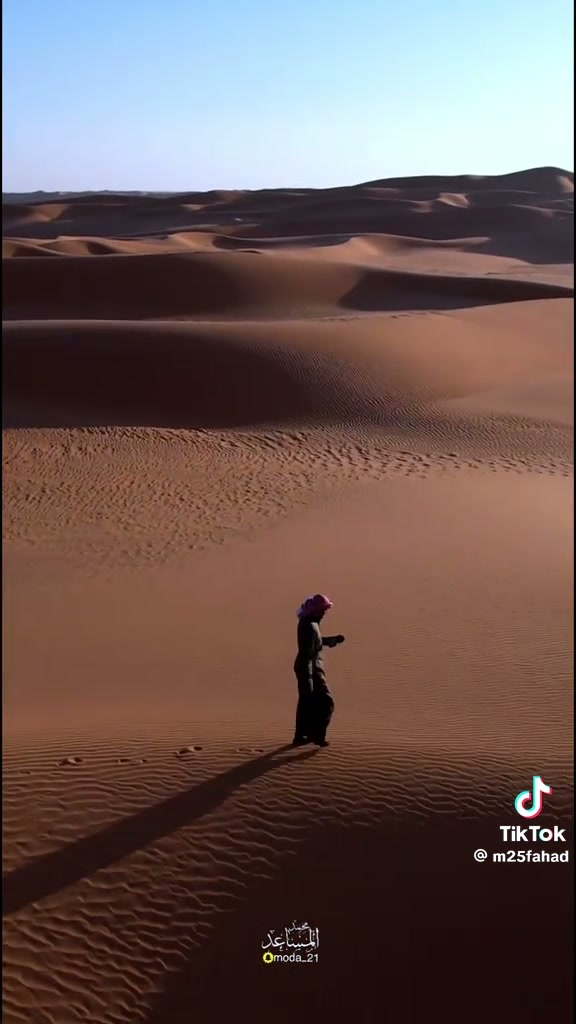human_footprint: (172, 728, 204, 772), (45, 748, 88, 772)
